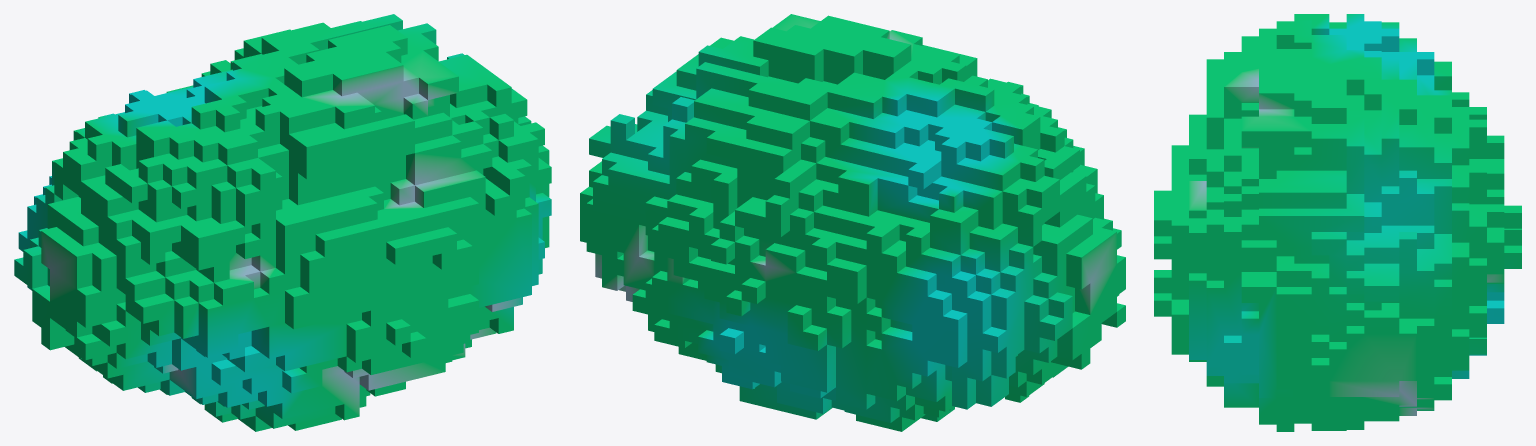
The model's file is asteroid.glb.
3 renders of one model, left to right at view 1: azimuth 30°, elevation 25°; view 2: azimuth 150°, elevation 25°; view 3: azimuth 270°, elevation 25°, orthographic.
Visible parts, largest first — view 1: Asteroid_01_A; view 2: Asteroid_01_A; view 3: Asteroid_01_A.
Boxes of the visible parts, bbox=[...] form: Asteroid_01_A: bbox=[14, 14, 551, 431]; Asteroid_01_A: bbox=[580, 14, 1125, 431]; Asteroid_01_A: bbox=[1154, 14, 1521, 431].
Size of the model in its own units: 4.5 by 3.05 by 3.05.
